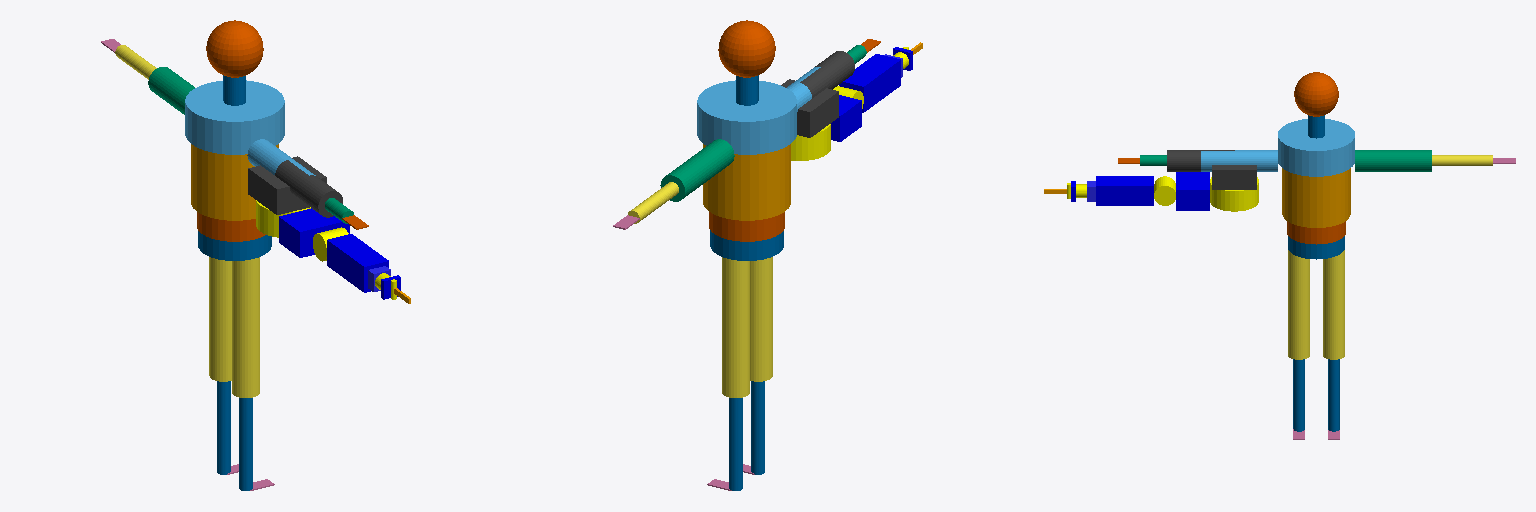
robot.urdf — third_arm_with_human:
<?xml version="1.0" ?>
<!-- Third Arm URDF -->

<robot name="third_arm_with_human">

  <!-- Third Arm has 5 joints, need many more links to make the model -->

  <link name="base_link">
    <visual>
      <origin xyz="0 0 0" rpy ="1.5708 0 0"/>
      <material name="Grey">
      <color rgba="0.3 0.3 0.3 1.0"/>
      </material>
      <geometry>
        <cylinder length="0.3" radius="0.05" />
      </geometry>
    </visual>
  </link>

  <joint name="third_arm_with_human" type="fixed">
    <origin xyz="0 0 0" rpy="0 0 -1.57" />
    <parent link="human/right_elbow"/>
    <child link="base_link"/>
  </joint>

  <link name="block_to_base">
    <visual>
    <origin xyz="0 0 0" rpy ="0 1.5708  0"/>
      <material name="Gray">
       <color rgba="0.3 0.3 0.3 1.0"/>
      </material>   
      <geometry>
        <box size="0.1 .2 .2"/>
      </geometry>
    </visual>
  </link>

  <joint name="brace_block_link" type="fixed">
    <origin xyz="0 -0.15 -0.05" rpy="0 0 0" />
    <parent link="base_link"/>
    <child link="block_to_base"/>
  </joint>


  <link name="base_motor">
    <inertial>
      <origin xyz="0 0 0" rpy ="0 0 0"/>
      <mass value="1"/>
      <inertia ixx="100"  ixy="0"  ixz="0" iyy="100" iyz="0" izz="100" />
    </inertial>
    <visual>
    <origin xyz="0 0 0" rpy ="0 0  0"/>
      <material name="Yellow">
       <color rgba="1.0 1.0 0.0 1.0"/>
      </material>   
      <geometry>
        <cylinder length="0.1" radius="0.11"/>
      </geometry>
    </visual>
  </link>


  <joint name="base_to_motor1" type="revolute">
    <axis xyz="0 0 1"/>
    <limit lower="-1.5708" upper="1.5708" effort="10" velocity="0.314"/>
    <origin xyz="0 0 -0.1" rpy="0 0 0" />
    <parent link="block_to_base"/>
    <child link="base_motor"/>
  </joint>

  <link name="swivel_link">
    <visual>
    <origin xyz="0 0 0" rpy ="0 0 0"/>
      <material name="Blue">
       <color rgba="0 0.0 1.0 1.0"/>
      </material>   
      <geometry>
        <box size="0.2 .15 .1"/>
      </geometry>
    </visual>
  </link>

  <joint name="motor1_to_swivel_link" type="fixed">
    <origin xyz="0 0.185 0" rpy="0 0 0" />
    <parent link="base_motor"/>
    <child link="swivel_link"/>
  </joint>

  <link name="lift_motor">
    <inertial>
      <origin xyz="0 0 0" rpy ="0 1.5708  0"/>
      <mass value="1"/>
      <inertia ixx="100"  ixy="0"  ixz="0" iyy="100" iyz="0" izz="100" />
    </inertial>
    <visual>
    <origin xyz="0 0 0" rpy ="0 1.5708 0"/>
      <material name="Yellow">
       <color rgba="1.0 1.0 0.0 1.0"/>
      </material>   
      <geometry>
        <cylinder length="0.1" radius="0.05"/>
      </geometry>
    </visual>
  </link>

  <joint name="swivel_to_motor2" type="revolute">
    <axis xyz="1 0 0"/>
    <limit lower="-1.5708" upper="1.5708" effort="10" velocity="0.314"/>
    <origin xyz="0 0.125 0" rpy="0 0 0" />
    <parent link="swivel_link"/>
    <child link="lift_motor"/>
  </joint>

  <link name="extend_link1">
    <visual>
    <origin xyz="0 0 0" rpy ="0 0 0"/>
      <material name="Blue">
       <color rgba="0 0.0 1.0 0.1"/>
      </material>   
      <geometry>
        <box size="0.1 .26 .1"/>
      </geometry>
    </visual>
  </link>

  <joint name="motor2_to_extend1" type="fixed">
    <origin xyz="0 0.18 0" rpy="0 0 0" />
    <parent link="lift_motor"/>
    <child link="extend_link1"/>
  </joint>

  <link name="extend_link2">
    <visual>
    <origin xyz="0 0 0" rpy ="0 0 0"/>
      <material name="Blue2">
       <color rgba="0.2 0.2 1.0 1.0"/>
      </material>   
      <geometry>
        <box size="0.07 .20 .07"/>
      </geometry>
    </visual>
  </link>

  <joint name="extension" type="prismatic">
    <axis xyz="0 1 0"/>
    <limit lower="0" upper="0.15" effort="10" velocity="5"/>
    <origin xyz="0 0.07 0" rpy="0 0 0" />
    <parent link="extend_link1"/>
    <child link="extend_link2"/>
  </joint>


  <link name="wrist_motor">
    <inertial>
      <origin xyz="0 0 0" rpy =" 1.5708 0  0"/>
      <mass value="1"/>
      <inertia ixx="100"  ixy="0"  ixz="0" iyy="100" iyz="0" izz="100" />
    </inertial>
    <visual>
    <origin xyz="0 0 0" rpy ="1.5708 0 0"/>
      <material name="Yellow">
       <color rgba="1.0 1.0 0.0 1.0"/>
      </material>   
      <geometry>
        <cylinder length="0.05" radius="0.03"/>
      </geometry>
    </visual>
  </link>

  <joint name="wrist_motor_to_extension" type="revolute">
    <axis xyz="0 1 0"/>
    <limit lower="-1.5708" upper="1.5708" effort="5" velocity="0.5"/>
    <origin xyz="0 0.125 0" rpy="0 0 0" />
    <parent link="extend_link2"/>
    <child link="wrist_motor"/>
  </joint>

  <link name="wrist_plate">
    <visual>
    <origin xyz="0 0 0" rpy ="0 0 0"/>
      <material name="Blue">
       <color rgba="0.0 0.0 1.0 1.0"/>
      </material>   
      <geometry>
        <box size="0.07 .02 .07"/>
      </geometry>
    </visual>
  </link>

  <joint name="wrist_motor_to_plate" type="fixed">
    <origin xyz="0 0.035 0" rpy="0 0 0" />
    <parent link="wrist_motor"/>
    <child link="wrist_plate"/>
  </joint>

  <link name="gripper_motor">
    <inertial>
      <origin xyz="0 0 0" rpy =" 1.5708 0  0"/>
      <mass value="1"/>
      <inertia ixx="100"  ixy="0"  ixz="0" iyy="100" iyz="0" izz="100" />
    </inertial>
    <visual>
    <origin xyz="0 0 0" rpy ="0 0 0"/>
      <material name="Yellow">
       <color rgba="1.0 1.0 0.0 1.0"/>
      </material>   
      <geometry>
        <cylinder length="0.07" radius="0.01"/>
      </geometry>
    </visual>
  </link>

  <joint name="gripper_motor_to_plate" type="fixed">
    <origin xyz="0 0.02 0" rpy="0 0 0" />
    <parent link="wrist_plate"/>
    <child link="gripper_motor"/>
  </joint>

  <link name="finger1">
    <inertial>
      <origin xyz="0 0.06 0" rpy =" 0 0  0"/>
      <mass value="1"/>
      <inertia ixx="100"  ixy="0"  ixz="0" iyy="100" iyz="0" izz="100" />
    </inertial>   
    <visual>
    <origin xyz="0 0.06 0" rpy ="0 0 0"/>
      <material name="Orange1">
       <color rgba="1.0 0.65 0.0 1.0"/>
      </material>   
      <geometry>
        <box size="0.01 .1 .02"/>
      </geometry>
    </visual>
  </link>

  <joint name="finger1_to_gripper_motor" type="revolute">
    <axis xyz="0 0 1"/>
    <limit lower="0" upper="1" effort="5" velocity="0.5"/>
    <origin xyz="0 0 0" rpy="0 0 0" />
    <parent link="gripper_motor"/>
    <child link="finger1"/>
  </joint>

  <link name="finger2">
    <inertial>
      <origin xyz="0 0.06 0" rpy =" 0 0  0"/>
      <mass value="1"/>
      <inertia ixx="100"  ixy="0"  ixz="0" iyy="100" iyz="0" izz="100" />
    </inertial>
    <visual>
    <origin xyz="0 0.06 0" rpy ="0 0 0"/>
      <material name="Orange2">
       <color rgba="1.0 0.55 0.0 1.0"/>
      </material>   
      <geometry>
        <box size="0.01 .1 .02"/>
      </geometry>
    </visual>
  </link>

  <joint name="finger2_to_gripper_motor" type="revolute">
    <axis xyz="0 0 1"/>
    <limit lower="-1" upper="0" effort="5" velocity="0.5"/>
    <origin xyz="0 0 0" rpy="0 0 0" />
    <mimic joint="finger1_to_gripper_motor" multiplier="-1" />
    <parent link="gripper_motor"/>
    <child link="finger2"/>
  </joint>

<!--/robot-->







<!-- HUMAN URDF -->
<!--robot name="human_model" xmlns:xacro="http://playerstage.sourceforge.net/gazebo/xmlschema/#interface"-->
  <link name="human/base">
    <visual>
      <origin rpy="0 0 0" xyz="0 0 -0.038318833241"/>
      <geometry>
        <cylinder length="-0.076637666482" radius="0.128063809513"/>
      </geometry>
    </visual>
  </link>
  <link name="human/spine_0">
    <visual>
      <origin rpy="0 0 0" xyz="0 0 0.0450388664201"/>
      <geometry>
        <cylinder length="0.0900777328402" radius="0.133623764208"/>
      </geometry>
    </visual>
  </link>
  <link name="human/spine_1"/>
  <link name="human/spine_2"/>
  <link name="human/spine">
    <visual>
      <origin rpy="0 0 0" xyz="0 0 0.131224200469"/>
      <geometry>
        <cylinder length="0.262448400938" radius="0.153623764208"/>
      </geometry>
    </visual>
  </link>
  <link name="human/shoulder_center">
    <visual>
      <origin rpy="0 0 0" xyz="0 0 0.063424720576"/>
      <geometry>
        <cylinder length="0.126849441152" radius="0.173623764208"/>
      </geometry>
    </visual>
  </link>
  <link name="human/neck_0"/>
  <link name="human/neck_1"/>
  <link name="human/neck">
    <visual>
      <origin rpy="0 0 0" xyz="0 0 0.0993566798405"/>
      <geometry>
        <cylinder length="0.198713359681" radius="0.04"/>
      </geometry>
    </visual>
  </link>
  <link name="human/head">
    <visual>
      <origin rpy="0 0 0" xyz="0 0 0"/>
      <geometry>
        <sphere radius="0.1"/>
      </geometry>
    </visual>
  </link>
  <joint name="hip" type="fixed">
    <origin rpy="0 0 0" xyz="0 0 0"/>
    <parent link="human/base"/>
    <child link="human/spine_0"/>
  </joint>
  <!-- SPINE : spherical -->
  <joint name="spine_0" type="revolute">
    <origin rpy="0 0 0" xyz="0 0 0.0900777328402"/>
    <axis xyz="1 0 0"/>
    <parent link="human/spine_0"/>
    <child link="human/spine_1"/>
    <limit effort="1" lower="-1.57079632679" upper="1.57079632679" velocity="1"/>
  </joint>
  <joint name="spine_1" type="revolute">
    <origin rpy="0 0 0" xyz="0 0 0"/>
    <axis xyz="0 1 0"/>
    <parent link="human/spine_1"/>
    <child link="human/spine_2"/>
    <limit effort="1" lower="-1.57079632679" upper="1.57079632679" velocity="1"/>
  </joint>
  <joint name="spine_2" type="revolute">
    <origin rpy="0 0 0" xyz="0 0 0"/>
    <axis xyz="0 0 1"/>
    <parent link="human/spine_2"/>
    <child link="human/spine"/>
    <limit effort="1" lower="-1.57079632679" upper="1.57079632679" velocity="1"/>
  </joint>
  <joint name="shoulder_center" type="fixed">
    <origin rpy="0 0 0" xyz="0 0 0.262448400938"/>
    <parent link="human/spine"/>
    <child link="human/shoulder_center"/>
  </joint>
  <!-- NECK : spherical -->
  <joint name="neck_0" type="revolute">
    <origin rpy="0 0 0" xyz="0 0 0.126849441152"/>
    <axis xyz="1 0 0"/>
    <parent link="human/shoulder_center"/>
    <child link="human/neck_0"/>
    <limit effort="1" lower="-1.57079632679" upper="1.57079632679" velocity="1"/>
  </joint>
  <joint name="neck_1" type="revolute">
    <origin rpy="0 0 0" xyz="0 0 0"/>
    <axis xyz="0 1 0"/>
    <parent link="human/neck_0"/>
    <child link="human/neck_1"/>
    <limit effort="1" lower="-1.57079632679" upper="1.57079632679" velocity="1"/>
  </joint>
  <joint name="neck_2" type="revolute">
    <origin rpy="0 0 0" xyz="0 0 0"/>
    <axis xyz="0 0 1"/>
    <parent link="human/neck_1"/>
    <child link="human/neck"/>
    <limit effort="1" lower="-1.57079632679" upper="1.57079632679" velocity="1"/>
  </joint>
  <!-- END NECK -->
  <joint name="head" type="fixed">
    <origin rpy="0 0 0" xyz="0 0 0.198713359681"/>
    <parent link="human/neck"/>
    <child link="human/head"/>
  </joint>
  <link name="human/right_arm_mount"/>
  <link name="human/right_shoulder_0"/>
  <link name="human/right_shoulder_1"/>
  <link name="human/right_shoulder">
    <visual>
      <origin rpy="0 1.57079632679 0" xyz="0.171606121091 0 0"/>
      <geometry>
        <cylinder length="0.343212242182" radius="0.05"/>
      </geometry>
    </visual>
  </link>
  <link name="human/right_elbow">
    <visual>
      <origin rpy="0 1.57079632679 0" xyz="0.13660318085 0 0"/>
      <geometry>
        <cylinder length="0.273206361701" radius="0.025"/>
      </geometry>
    </visual>
  </link>
  <link name="human/right_wrist_0"/>
  <link name="human/right_wrist_1"/>
  <link name="human/right_wrist">
    <visual>
      <origin rpy="0 0 0" xyz="0.05 0 0"/>
      <geometry>
        <box size="0.1 0.05 .005"/>
      </geometry>
    </visual>
  </link>
  <link name="human/right_hand"/>
  <!-- Joints -->
  <joint name="right_arm_mount" type="fixed">
    <origin rpy="0 0 -1.57079632679" xyz="0 -0.173623764208 -0.00143826424372"/>
    <parent link="human/shoulder_center"/>
    <child link="human/right_arm_mount"/>
  </joint>
  <!-- SHOULDER : spherical -->
  <joint name="right_shoulder_0" type="revolute">
    <origin rpy="0 0 0" xyz="0 0 0"/>
    <axis xyz="0 1 0"/>
    <parent link="human/right_arm_mount"/>
    <child link="human/right_shoulder_0"/>
    <limit effort="1" lower="-1.57079632679" upper="1.57079632679" velocity="1"/>
  </joint>
  <joint name="right_shoulder_1" type="revolute">
    <origin rpy="0 0 0" xyz="0 0 0"/>
    <axis xyz="0 0 1"/>
    <parent link="human/right_shoulder_0"/>
    <child link="human/right_shoulder_1"/>
    <limit effort="1" lower="-1.57079632679" upper="2.35619449019" velocity="1"/>
  </joint>
  <joint name="right_shoulder_2" type="revolute">
    <origin rpy="0 0 0" xyz="0 0 0"/>
    <axis xyz="1 0 0"/>
    <parent link="human/right_shoulder_1"/>
    <child link="human/right_shoulder"/>
    <limit effort="1" lower="-1.57079632679" upper="1.57079632679" velocity="1"/>
  </joint>
  <!-- END SHOULDER -->
  <joint name="right_elbow_0" type="revolute">
    <origin rpy="0 0 0" xyz="0.343212242182 0 0"/>
    <axis xyz="0 0 1"/>
    <parent link="human/right_shoulder"/>
    <child link="human/right_elbow"/>
    <limit effort="1" lower="0.0" upper="3.14159265359" velocity="1"/>
  </joint>
  <joint name="right_wrist_0" type="revolute">
    <origin rpy="0 0 0" xyz="0.273206361701 0 0"/>
    <axis xyz="0 0 1"/>
    <parent link="human/right_elbow"/>
    <child link="human/right_wrist_0"/>
    <limit effort="1" lower="-0.78539816339" upper="0.78539816339" velocity="1"/>
  </joint>
  <joint name="right_wrist_1" type="revolute">
    <origin rpy="0 0 0" xyz="0 0 0"/>
    <axis xyz="0 1 0"/>
    <parent link="human/right_wrist_0"/>
    <child link="human/right_wrist_1"/>
    <limit effort="1" lower="-1.57079632679" upper="1.57079632679" velocity="1"/>
  </joint>
  <joint name="right_wrist_2" type="revolute">
    <origin rpy="0 0 0" xyz="0 0 0"/>
    <axis xyz="1 0 0"/>
    <parent link="human/right_wrist_1"/>
    <child link="human/right_wrist"/>
    <limit effort="1" lower="-1.57079632679" upper="1.57079632679" velocity="1"/>
  </joint>
  <joint name="right_hand" type="fixed">
    <origin rpy="0 0 0" xyz="0.1 0 0"/>
    <parent link="human/right_wrist"/>
    <child link="human/right_hand"/>
  </joint>
  <link name="human/left_arm_mount"/>
  <link name="human/left_shoulder_0"/>
  <link name="human/left_shoulder_1"/>
  <link name="human/left_shoulder">
    <visual>
      <origin rpy="0 1.57079632679 0" xyz="0.171606121091 0 0"/>
      <geometry>
        <cylinder length="0.343212242182" radius="0.05"/>
      </geometry>
    </visual>
  </link>
  <link name="human/left_elbow">
    <visual>
      <origin rpy="0 1.57079632679 0" xyz="0.13660318085 0 0"/>
      <geometry>
        <cylinder length="0.273206361701" radius="0.025"/>
      </geometry>
    </visual>
  </link>
  <link name="human/left_wrist_0"/>
  <link name="human/left_wrist_1"/>
  <link name="human/left_wrist">
    <visual>
      <origin rpy="0 0 0" xyz="0.05 0 0"/>
      <geometry>
        <box size="0.1 0.05 .005"/>
      </geometry>
    </visual>
  </link>
  <link name="human/left_hand"/>
  <!-- Joints -->
  <joint name="left_arm_mount" type="fixed">
    <origin rpy="0 0 1.57079632679" xyz="0 0.173623764208 -0.00143826424372"/>
    <parent link="human/shoulder_center"/>
    <child link="human/left_arm_mount"/>
  </joint>
  <!-- SHOULDER : spherical -->
  <joint name="left_shoulder_0" type="revolute">
    <origin rpy="0 0 0" xyz="0 0 0"/>
    <axis xyz="0 1 0"/>
    <parent link="human/left_arm_mount"/>
    <child link="human/left_shoulder_0"/>
    <limit effort="1" lower="-1.57079632679" upper="1.57079632679" velocity="1"/>
  </joint>
  <joint name="left_shoulder_1" type="revolute">
    <origin rpy="0 0 0" xyz="0 0 0"/>
    <axis xyz="0 0 1"/>
    <parent link="human/left_shoulder_0"/>
    <child link="human/left_shoulder_1"/>
    <limit effort="1" lower="-2.35619449019" upper="1.57079632679" velocity="1"/>
  </joint>
  <joint name="left_shoulder_2" type="revolute">
    <origin rpy="0 0 0" xyz="0 0 0"/>
    <axis xyz="1 0 0"/>
    <parent link="human/left_shoulder_1"/>
    <child link="human/left_shoulder"/>
    <limit effort="1" lower="-1.57079632679" upper="1.57079632679" velocity="1"/>
  </joint>
  <!-- END SHOULDER -->
  <joint name="left_elbow_0" type="revolute">
    <origin rpy="0 0 0" xyz="0.343212242182 0 0"/>
    <axis xyz="0 0 1"/>
    <parent link="human/left_shoulder"/>
    <child link="human/left_elbow"/>
    <limit effort="1" lower="-3.14159265359" upper="0.0" velocity="1"/>
  </joint>
  <joint name="left_wrist_0" type="revolute">
    <origin rpy="0 0 0" xyz="0.273206361701 0 0"/>
    <axis xyz="0 0 1"/>
    <parent link="human/left_elbow"/>
    <child link="human/left_wrist_0"/>
    <limit effort="1" lower="-0.78539816339" upper="0.78539816339" velocity="1"/>
  </joint>
  <joint name="left_wrist_1" type="revolute">
    <origin rpy="0 0 0" xyz="0 0 0"/>
    <axis xyz="0 1 0"/>
    <parent link="human/left_wrist_0"/>
    <child link="human/left_wrist_1"/>
    <limit effort="1" lower="-1.57079632679" upper="1.57079632679" velocity="1"/>
  </joint>
  <joint name="left_wrist_2" type="revolute">
    <origin rpy="0 0 0" xyz="0 0 0"/>
    <axis xyz="1 0 0"/>
    <parent link="human/left_wrist_1"/>
    <child link="human/left_wrist"/>
    <limit effort="1" lower="-1.57079632679" upper="1.57079632679" velocity="1"/>
  </joint>
  <joint name="left_hand" type="fixed">
    <origin rpy="0 0 0" xyz="0.1 0 0"/>
    <parent link="human/left_wrist"/>
    <child link="human/left_hand"/>
  </joint>
  <link name="human/right_leg_mount"/>
  <link name="human/right_hip_0"/>
  <link name="human/right_hip_1"/>
  <link name="human/right_hip">
    <visual>
      <origin rpy="0 1.57079632679 0" xyz="0.265759404035 0 0"/>
      <geometry>
        <cylinder length="0.53151880807" radius="0.05"/>
      </geometry>
    </visual>
  </link>
  <link name="human/right_knee">
    <visual>
      <origin rpy="0 1.57079632679 0" xyz="0.184519922065 0 0"/>
      <geometry>
        <cylinder length="0.36903984413" radius="0.025"/>
      </geometry>
    </visual>
  </link>
  <link name="human/right_ankle_0"/>
  <link name="human/right_ankle">
    <visual>
      <origin rpy="0 0 0" xyz="0.05 0 0"/>
      <geometry>
        <box size="0.1 0.05 .005"/>
      </geometry>
    </visual>
  </link>
  <link name="human/right_foot"/>
  <!-- Joints -->
  <joint name="right_hip_leg_mount" type="fixed">
    <origin rpy="0 1.57079632679 0" xyz="0 -0.0780638095132 -0.076637666482"/>
    <parent link="human/base"/>
    <child link="human/right_leg_mount"/>
  </joint>
  <!-- hip : spherical -->
  <joint name="right_hip_0" type="revolute">
    <origin rpy="0 0 0" xyz="0 0 0"/>
    <axis xyz="0 0 1"/>
    <parent link="human/right_leg_mount"/>
    <child link="human/right_hip_0"/>
    <limit effort="1" lower="-1.57079632679" upper="1.57079632679" velocity="1"/>
  </joint>
  <joint name="right_hip_1" type="revolute">
    <origin rpy="0 0 0" xyz="0 0 0"/>
    <axis xyz="0 1 0"/>
    <parent link="human/right_hip_0"/>
    <child link="human/right_hip_1"/>
    <limit effort="1" lower="-1.57079632679" upper="1.57079632679" velocity="1"/>
  </joint>
  <joint name="right_hip_2" type="revolute">
    <origin rpy="0 0 0" xyz="0 0 0"/>
    <axis xyz="1 0 0"/>
    <parent link="human/right_hip_1"/>
    <child link="human/right_hip"/>
    <limit effort="1" lower="-1.57079632679" upper="1.57079632679" velocity="1"/>
  </joint>
  <!-- END hip -->
  <joint name="right_knee_0" type="revolute">
    <origin rpy="1.57079632679 0 0" xyz="0.53151880807 0 0"/>
    <axis xyz="0 0 1"/>
    <parent link="human/right_hip"/>
    <child link="human/right_knee"/>
    <limit effort="1" lower="-3.14159265359" upper="0.1" velocity="1"/>
  </joint>
  <!-- ankle : spherical -->
  <joint name="right_ankle_0" type="revolute">
    <origin rpy="-1.57079632679 0 1.57079632679" xyz="0.36903984413 0 0"/>
    <axis xyz="0 0 1"/>
    <parent link="human/right_knee"/>
    <child link="human/right_ankle_0"/>
    <limit effort="1" lower="-1.57079632679" upper="1.57079632679" velocity="1"/>
  </joint>
  <joint name="right_ankle_1" type="revolute">
    <origin rpy="0 0 0" xyz="0 0 0"/>
    <axis xyz="0 1 0"/>
    <parent link="human/right_ankle_0"/>
    <child link="human/right_ankle"/>
    <limit effort="1" lower="-1.57079632679" upper="1.57079632679" velocity="1"/>
  </joint>
  <!-- END ankle -->
  <joint name="right_foot" type="fixed">
    <origin rpy="0 0 0" xyz="0.1 0 0"/>
    <parent link="human/right_ankle"/>
    <child link="human/right_foot"/>
  </joint>
  <link name="human/left_leg_mount"/>
  <link name="human/left_hip_0"/>
  <link name="human/left_hip_1"/>
  <link name="human/left_hip">
    <visual>
      <origin rpy="0 1.57079632679 0" xyz="0.265759404035 0 0"/>
      <geometry>
        <cylinder length="0.53151880807" radius="0.05"/>
      </geometry>
    </visual>
  </link>
  <link name="human/left_knee">
    <visual>
      <origin rpy="0 1.57079632679 0" xyz="0.184519922065 0 0"/>
      <geometry>
        <cylinder length="0.36903984413" radius="0.025"/>
      </geometry>
    </visual>
  </link>
  <link name="human/left_ankle_0"/>
  <link name="human/left_ankle">
    <visual>
      <origin rpy="0 0 0" xyz="0.05 0 0"/>
      <geometry>
        <box size="0.1 0.05 .005"/>
      </geometry>
    </visual>
  </link>
  <link name="human/left_foot"/>
  <!-- Joints -->
  <joint name="left_hip_leg_mount" type="fixed">
    <origin rpy="0 1.57079632679 0" xyz="0 0.0780638095132 -0.076637666482"/>
    <parent link="human/base"/>
    <child link="human/left_leg_mount"/>
  </joint>
  <!-- hip : spherical -->
  <joint name="left_hip_0" type="revolute">
    <origin rpy="0 0 0" xyz="0 0 0"/>
    <axis xyz="0 0 1"/>
    <parent link="human/left_leg_mount"/>
    <child link="human/left_hip_0"/>
    <limit effort="1" lower="-1.57079632679" upper="1.57079632679" velocity="1"/>
  </joint>
  <joint name="left_hip_1" type="revolute">
    <origin rpy="0 0 0" xyz="0 0 0"/>
    <axis xyz="0 1 0"/>
    <parent link="human/left_hip_0"/>
    <child link="human/left_hip_1"/>
    <limit effort="1" lower="-1.57079632679" upper="1.57079632679" velocity="1"/>
  </joint>
  <joint name="left_hip_2" type="revolute">
    <origin rpy="0 0 0" xyz="0 0 0"/>
    <axis xyz="1 0 0"/>
    <parent link="human/left_hip_1"/>
    <child link="human/left_hip"/>
    <limit effort="1" lower="-1.57079632679" upper="1.57079632679" velocity="1"/>
  </joint>
  <!-- END hip -->
  <joint name="left_knee_0" type="revolute">
    <origin rpy="1.57079632679 0 0" xyz="0.53151880807 0 0"/>
    <axis xyz="0 0 1"/>
    <parent link="human/left_hip"/>
    <child link="human/left_knee"/>
    <limit effort="1" lower="-3.14159265359" upper="0.1" velocity="1"/>
  </joint>
  <!-- ankle : spherical -->
  <joint name="left_ankle_0" type="revolute">
    <origin rpy="-1.57079632679 0 1.57079632679" xyz="0.36903984413 0 0"/>
    <axis xyz="0 0 1"/>
    <parent link="human/left_knee"/>
    <child link="human/left_ankle_0"/>
    <limit effort="1" lower="-1.57079632679" upper="1.57079632679" velocity="1"/>
  </joint>
  <joint name="left_ankle_1" type="revolute">
    <origin rpy="0 0 0" xyz="0 0 0"/>
    <axis xyz="0 1 0"/>
    <parent link="human/left_ankle_0"/>
    <child link="human/left_ankle"/>
    <limit effort="1" lower="-1.57079632679" upper="1.57079632679" velocity="1"/>
  </joint>
  <!-- END ankle -->
  <joint name="left_foot" type="fixed">
    <origin rpy="0 0 0" xyz="0.1 0 0"/>
    <parent link="human/left_ankle"/>
    <child link="human/left_foot"/>
  </joint>
</robot>

--- Facts derived from the render (not from the file) ---
The picture shows the robot from 3 angles, left to right: view 1: azimuth 30°, elevation 25°; view 2: azimuth 150°, elevation 25°; view 3: azimuth 270°, elevation 25°; orthographic projection.
Model third_arm_with_human with 56 links and 55 joints (37 revolute, 1 prismatic, 17 fixed), rooted at human/base, posed all joints at 0.
Visible links, largest first — view 1: human/shoulder_center, human/spine, human/right_hip, human/left_hip, human/head, extend_link1, swivel_link, block_to_base, base_link, human/base, human/right_knee, human/left_knee (+7 smaller); view 2: human/shoulder_center, human/spine, human/left_hip, human/right_hip, human/head, human/left_shoulder, extend_link1, human/spine_0, block_to_base, human/base, base_link, human/right_knee (+5 smaller); view 3: human/shoulder_center, human/spine, human/right_hip, human/left_hip, extend_link1, human/left_shoulder, human/head, human/right_shoulder, swivel_link, block_to_base, base_motor, human/spine_0 (+6 smaller).
Link boxes in pixels (x1,y1,x2,y2): human/shoulder_center: [185, 80, 284, 154]; human/spine: [191, 144, 278, 220]; human/right_hip: [232, 257, 259, 397]; human/left_hip: [209, 257, 231, 381]; human/head: [206, 20, 263, 77]; extend_link1: [327, 234, 388, 292]; swivel_link: [279, 208, 349, 257]; block_to_base: [248, 156, 326, 214]; base_link: [275, 160, 342, 217]; human/base: [198, 231, 271, 260]; human/right_knee: [239, 398, 252, 490]; human/left_knee: [217, 381, 230, 474]; human/shoulder_center: [697, 80, 796, 154]; human/spine: [703, 144, 790, 220]; human/left_hip: [722, 257, 749, 397]; human/right_hip: [750, 257, 772, 381]; human/head: [718, 20, 775, 77]; human/left_shoulder: [660, 139, 734, 201]; extend_link1: [839, 54, 900, 112]; human/spine_0: [709, 212, 784, 241]; block_to_base: [781, 79, 838, 137]; human/base: [710, 230, 783, 260]; base_link: [800, 51, 854, 98]; human/right_knee: [751, 381, 764, 474]; human/shoulder_center: [1278, 119, 1354, 176]; human/spine: [1282, 168, 1350, 227]; human/right_hip: [1288, 250, 1309, 359]; human/left_hip: [1323, 250, 1344, 359]; extend_link1: [1096, 176, 1153, 205]; human/left_shoulder: [1355, 150, 1431, 171]; human/head: [1294, 72, 1338, 116]; human/right_shoulder: [1201, 150, 1277, 171]; swivel_link: [1176, 172, 1209, 210]; block_to_base: [1212, 165, 1256, 189]; base_motor: [1210, 177, 1258, 211]; human/spine_0: [1287, 221, 1345, 244].
Size in the robot's own frame: 0.3472 by 2.11 by 1.76 metres.
Geometry: primitives only (box / cylinder / sphere), no mesh files.